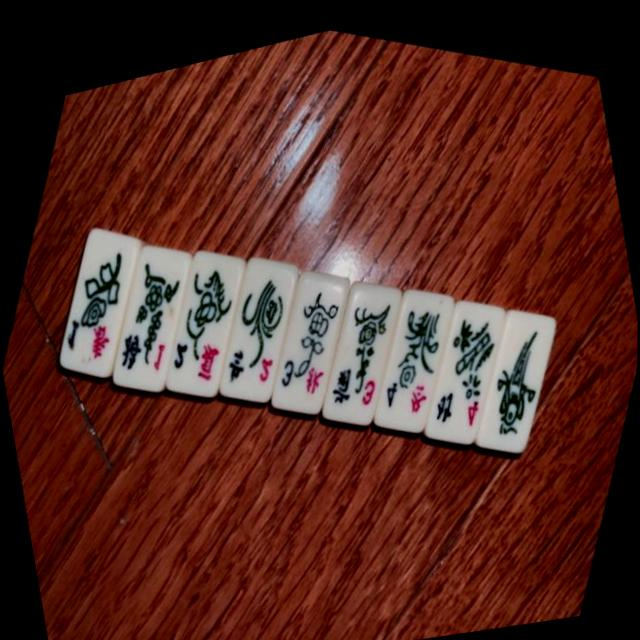bf1: (110, 231, 192, 379)
bf2: (217, 243, 300, 391)
bf3: (320, 270, 403, 416)
bf4: (423, 289, 508, 435)
bs1: (56, 213, 141, 365)
bs2: (163, 236, 247, 386)
bs3: (269, 257, 351, 404)
bs4: (372, 278, 457, 424)
sb1: (476, 300, 559, 445)
